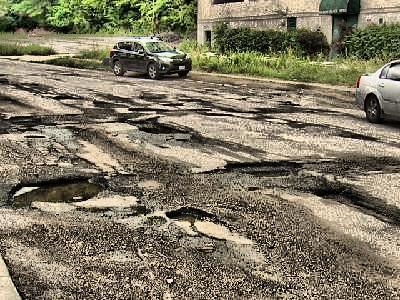pothole: (3, 173, 108, 211), (162, 204, 244, 242), (201, 157, 303, 179), (6, 114, 45, 141), (313, 188, 359, 205), (136, 123, 189, 135), (127, 106, 170, 113), (349, 132, 376, 142), (53, 93, 79, 101), (189, 107, 213, 113)
